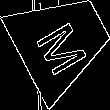M_NE: (31, 9, 94, 74)
